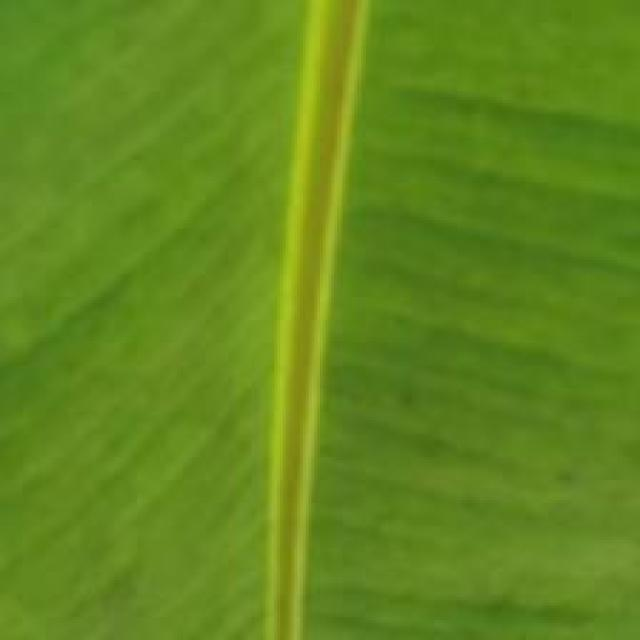Black_leaf_spot: (28, 4, 640, 614)
